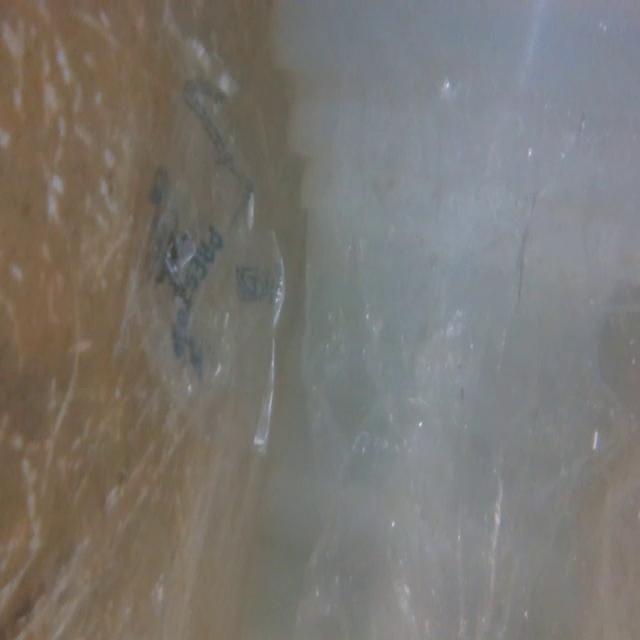plastic bags: (107, 60, 295, 462)
